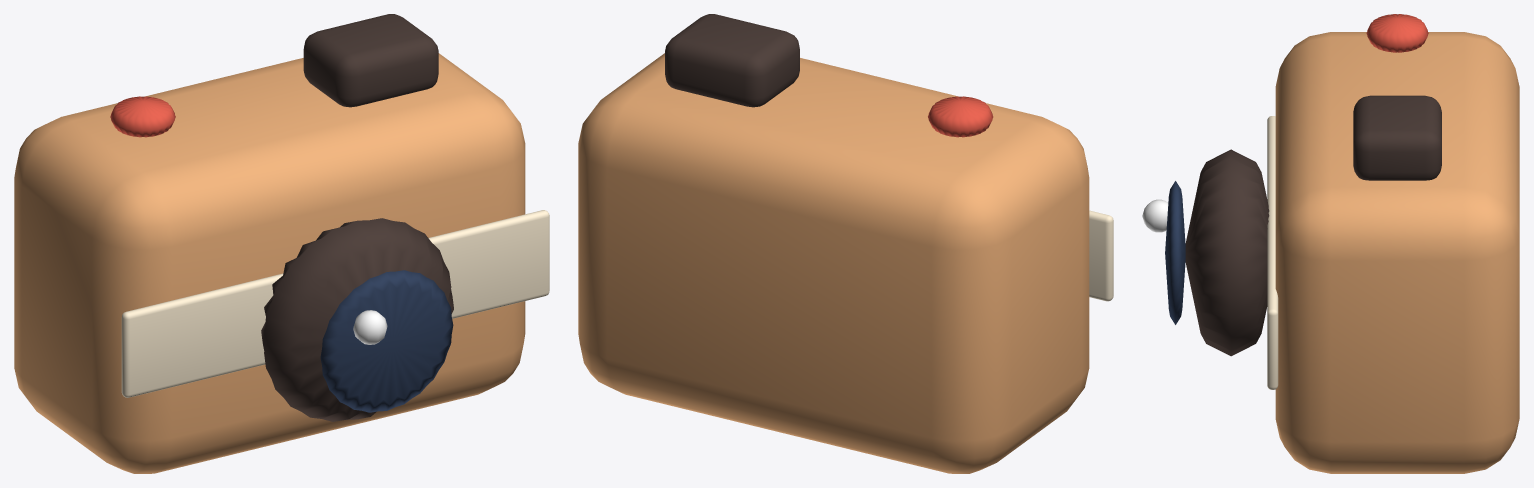
Rendered from camera.glb.
3 views of the same model, side by side, from view 1: azimuth 30°, elevation 25°; view 2: azimuth 150°, elevation 25°; view 3: azimuth 270°, elevation 25° (orthographic). The views are drawn at different scales.
Parts seen in each view (by area): view 1: body, stripe, lensring, lens, flash, shutter, lensglint; view 2: body, flash, stripe, shutter; view 3: body, lensring, flash, stripe, lens, shutter, lensglint.
Boxes of the visible parts, x1,y1,x2,y2 form: body: (14,53,525,473); stripe: (121,210,549,397); lensring: (261,218,453,421); lens: (320,270,453,412); flash: (303,14,438,107); shutter: (110,96,175,137); lensglint: (353,310,387,344); body: (578,53,1089,473); flash: (665,14,799,107); stripe: (1089,210,1113,301); shutter: (928,96,993,137); body: (1275,32,1519,473); lensring: (1185,149,1269,356); flash: (1353,95,1441,180); stripe: (1267,116,1278,389); lens: (1165,181,1185,324); shutter: (1366,14,1428,52); lensglint: (1142,199,1168,232).
Bounding box in the file's own units: 0.84 × 0.65 × 0.68.
